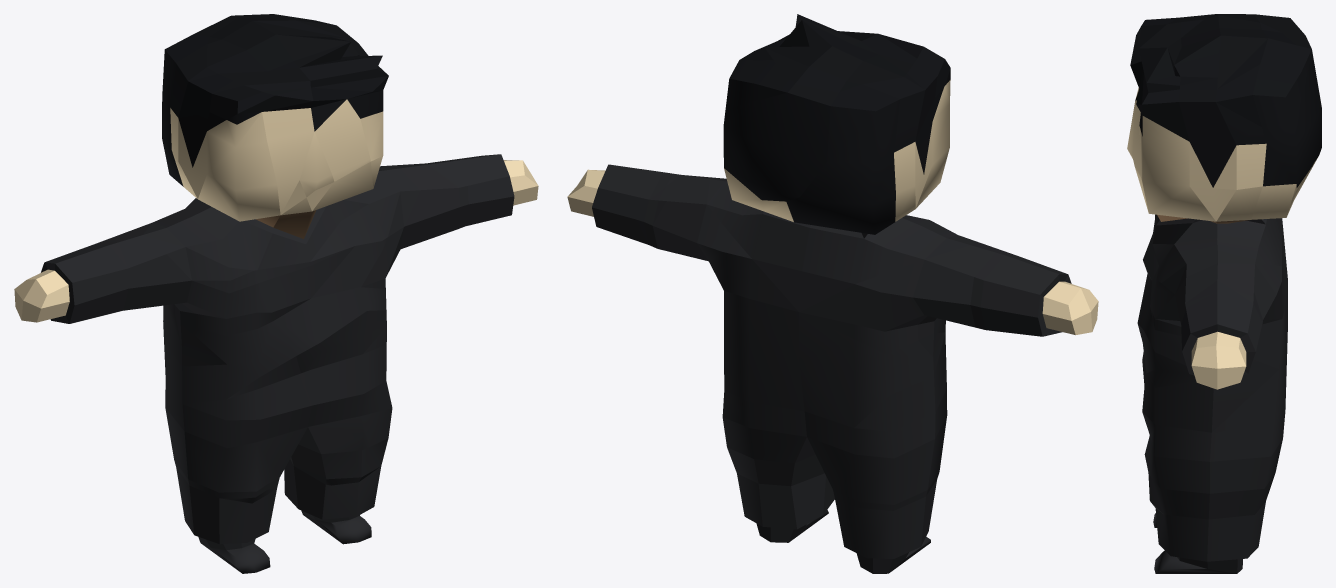
Rendered from GuyTest.fbx.
3 views of the same model, side by side, from view 1: azimuth 30°, elevation 25°; view 2: azimuth 150°, elevation 25°; view 3: azimuth 270°, elevation 25° (orthographic). The views are drawn at different scales.
Parts seen in each view (by area): view 1: Dude; view 2: Dude; view 3: Dude.
Boxes of the visible parts, box(x1,y1,x2,y2) form: Dude: box(14, 14, 538, 573); Dude: box(567, 14, 1098, 573); Dude: box(1127, 14, 1321, 573).
Size of the model in its own units: 2.04 by 1.91 by 0.6574.
1 material, 1 textured.
